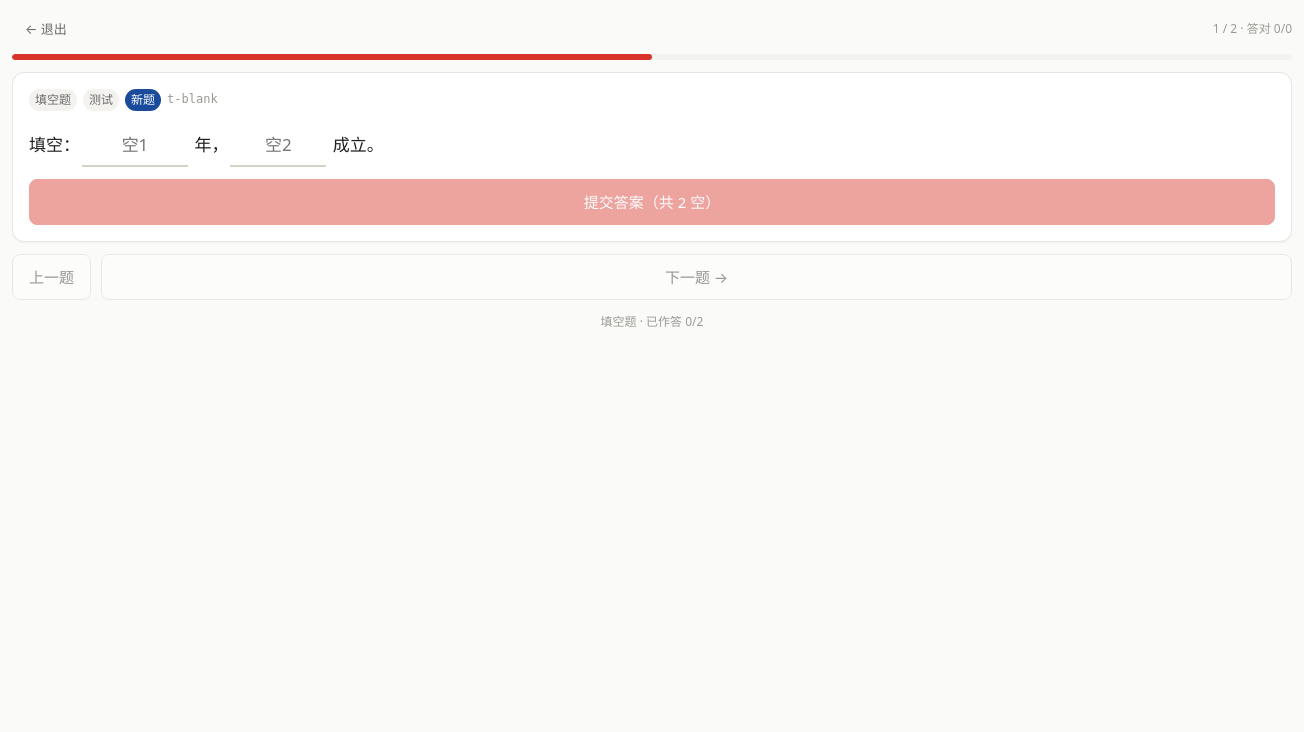
Test: 答题流程 · 下一题推进 › 填空题：输入后可提交并推进
The image size is (1304, 732).
Check: the button "下一题 →" is disabled, box [101,254,1292,300]
Step 1. Type "1919" into the field with placeholder "空1" → (135,146), box [82,125,188,167]
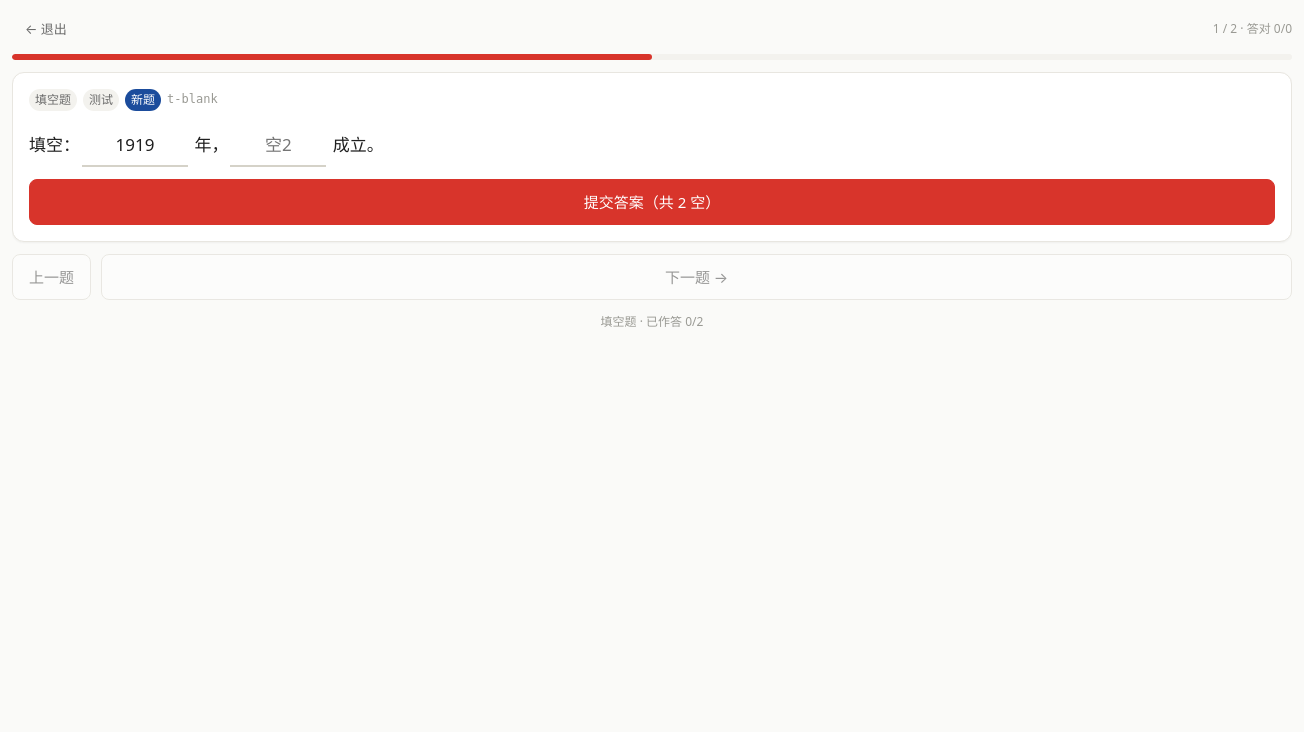
Step 2. Click the button "提交答案（共 2 空）" → (652,202), box [29,179,1275,225]
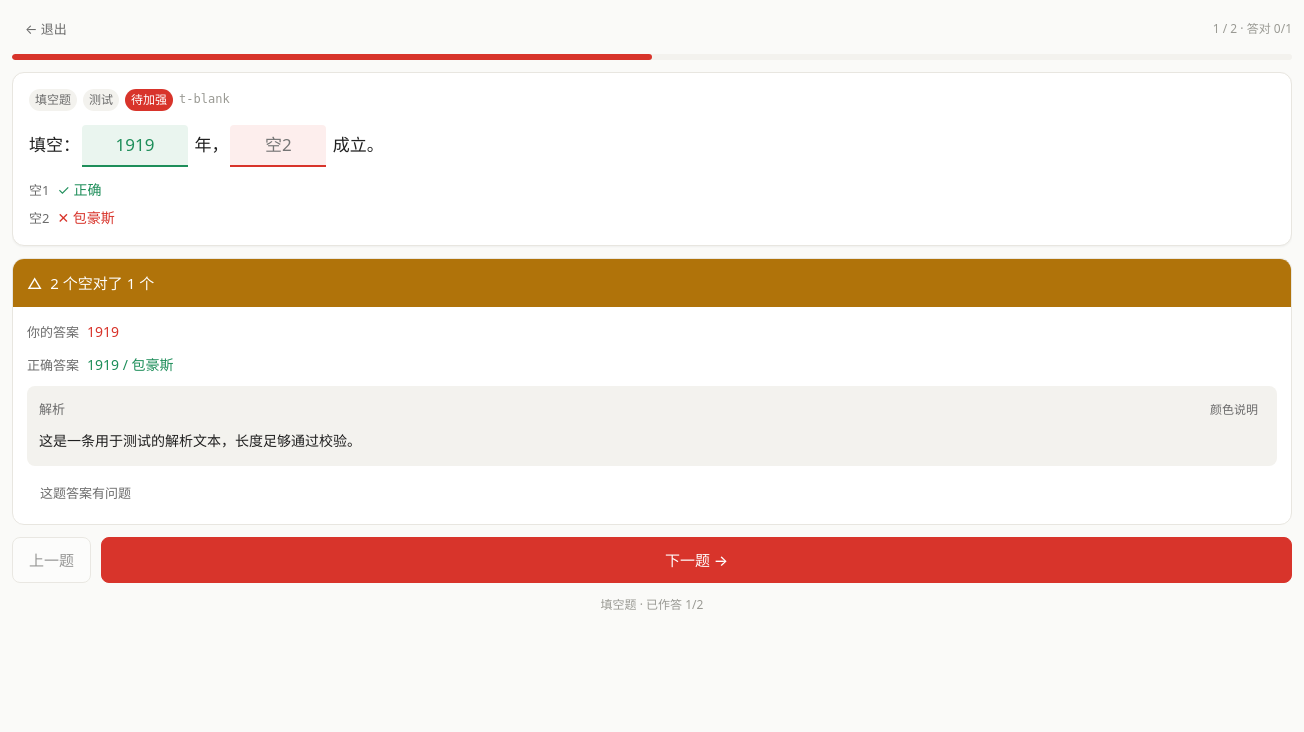
Check: the button "下一题 →" is enabled
Step 3. Click the button "下一题 →" → (696,560), box [101,537,1292,583]
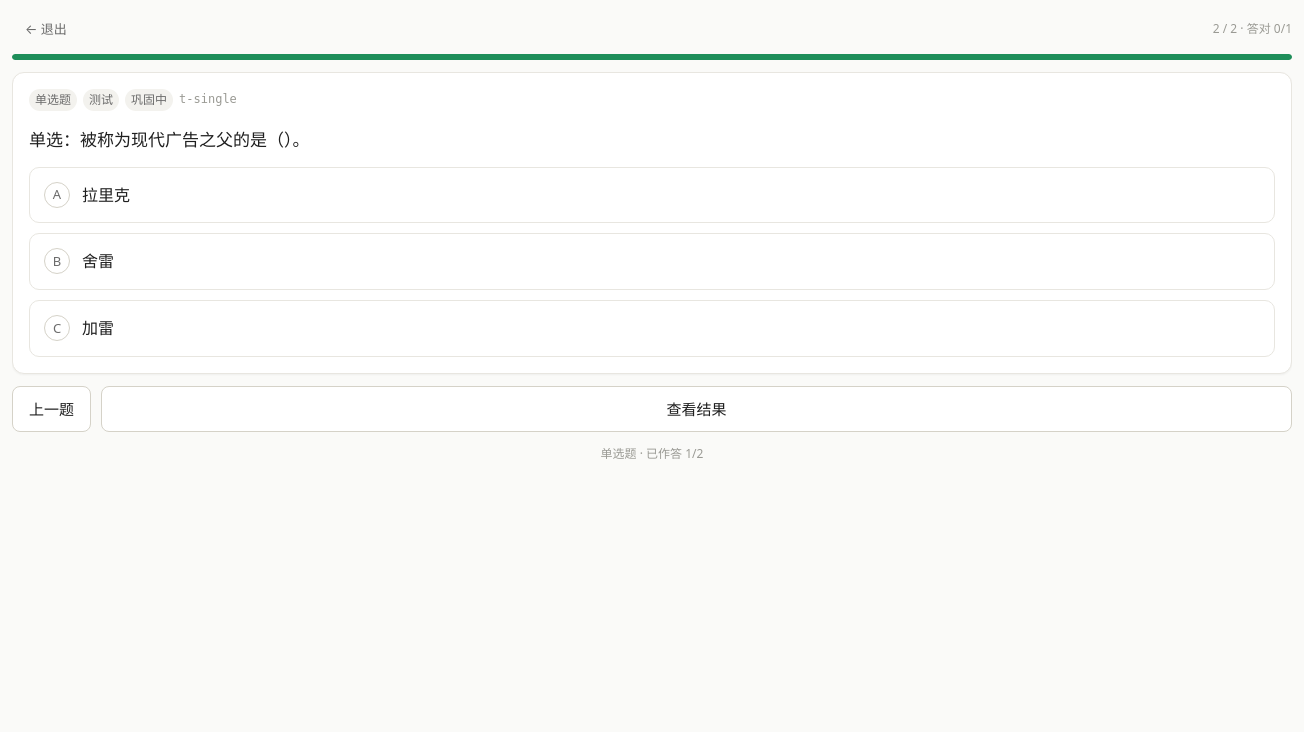
Check: the text "2 / 2 · 答对 0/1" is shown, box [1213,19,1292,39]
